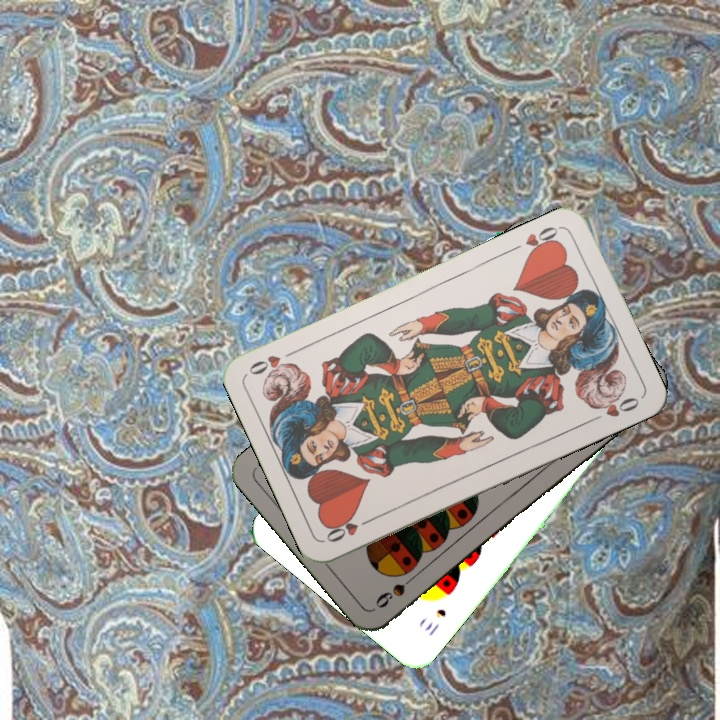HO: (322, 513, 378, 545), (521, 222, 564, 260)
S10: (420, 604, 449, 639)
S9: (371, 568, 421, 611)
